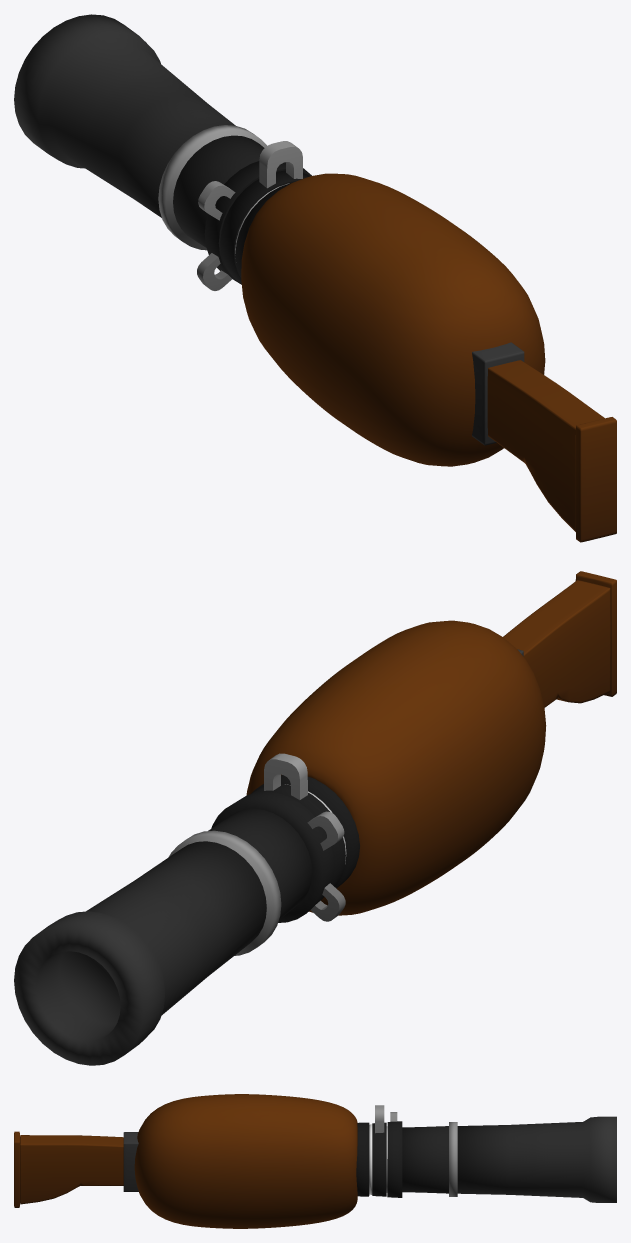
Rendered from mininggun.fbx.
3 renders of one model, top to bottom at view 1: azimuth 30°, elevation 25°; view 2: azimuth 150°, elevation 25°; view 3: azimuth 270°, elevation 25°, orthographic. The views are drawn at different scales.
Visible parts, largest first — view 1: Cube.004; view 2: Cube.004; view 3: Cube.004.
Part boxes in pixels (bbox=[...]): Cube.004: bbox=[14, 14, 616, 542]; Cube.004: bbox=[14, 571, 616, 1065]; Cube.004: bbox=[14, 1094, 616, 1228].
Bounding box in the file's own units: 0.3905 × 0.4443 × 1.97.
